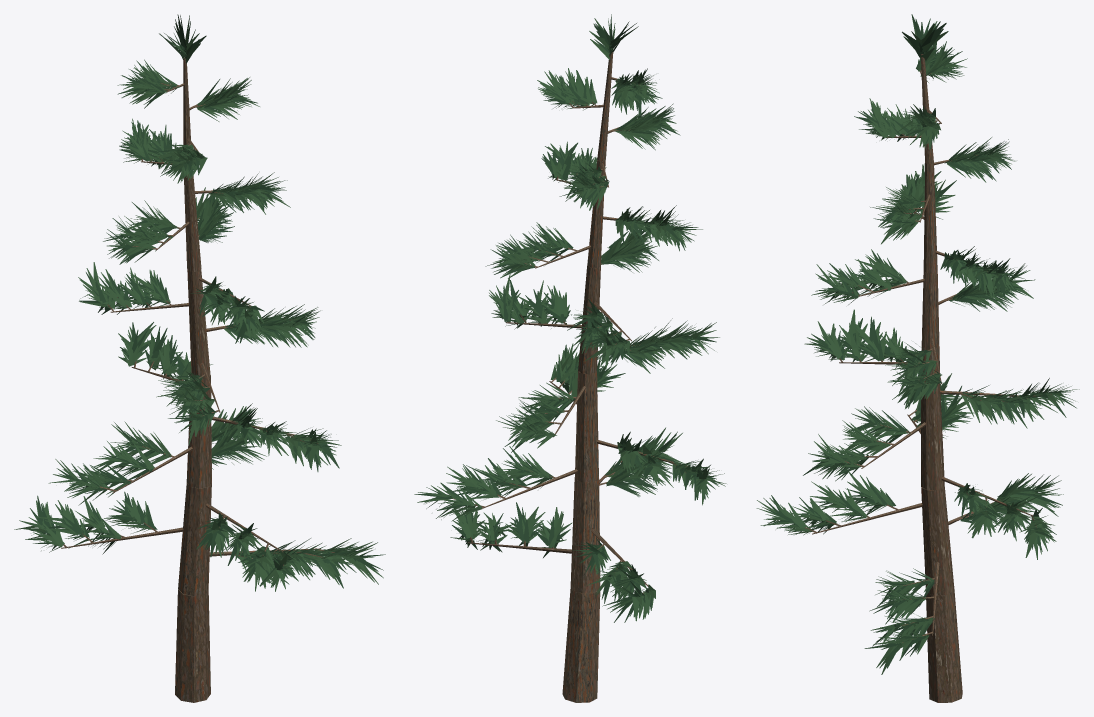
The model's file is detail_pine_lod.glb.
The picture shows the model from 3 angles, left to right: view 1: azimuth 30°, elevation 25°; view 2: azimuth 150°, elevation 25°; view 3: azimuth 270°, elevation 25°; orthographic projection. The views are drawn at different scales.
Parts seen in each view (by area): view 1: Cone; view 2: Cone; view 3: Cone.
Part boxes in pixels (box(x1,y1,x2,y2)): Cone: box(14, 14, 385, 702); Cone: box(414, 14, 726, 702); Cone: box(756, 14, 1079, 702).
Size of the model in its own units: 5.71 by 12.15 by 5.33.
3 materials, 1 textured.
